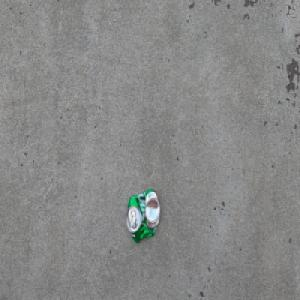SodaCan: (125, 188, 160, 244)
